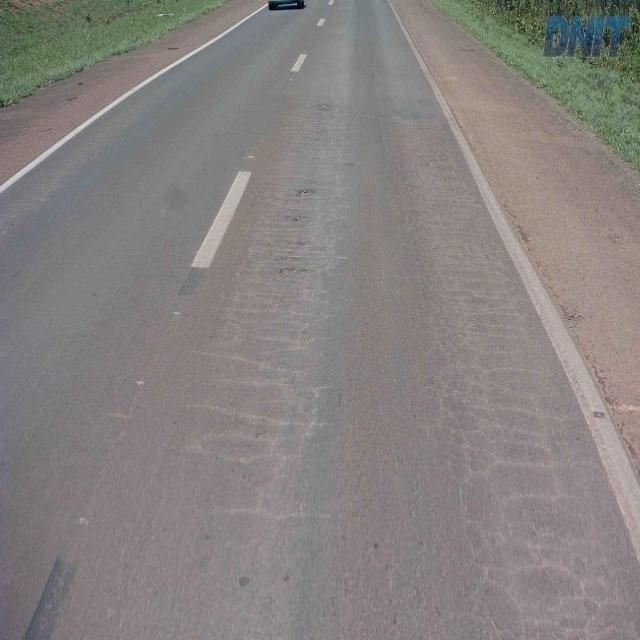pothole: (276, 262, 308, 279), (292, 183, 316, 201)
